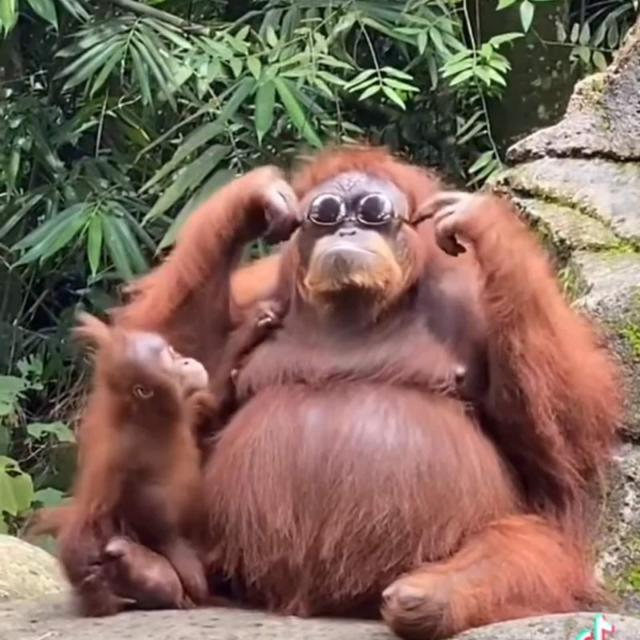Orangutan: (199, 161, 585, 615), (59, 330, 199, 605)
